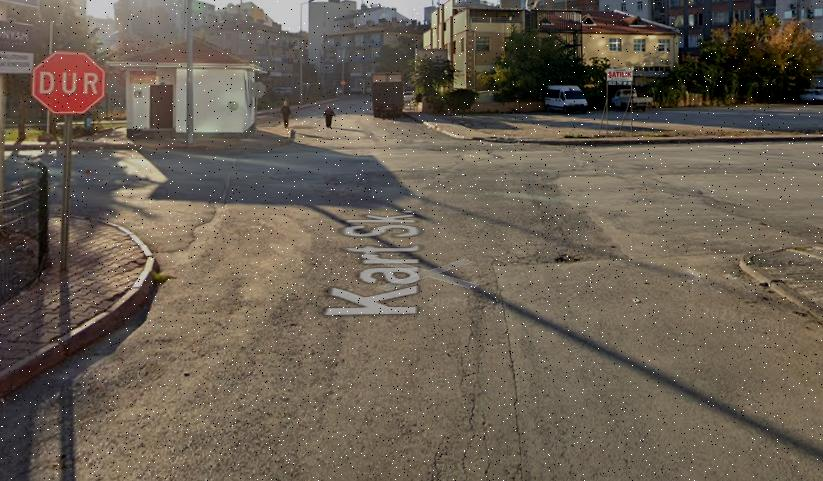stop: (34, 52, 105, 113)
